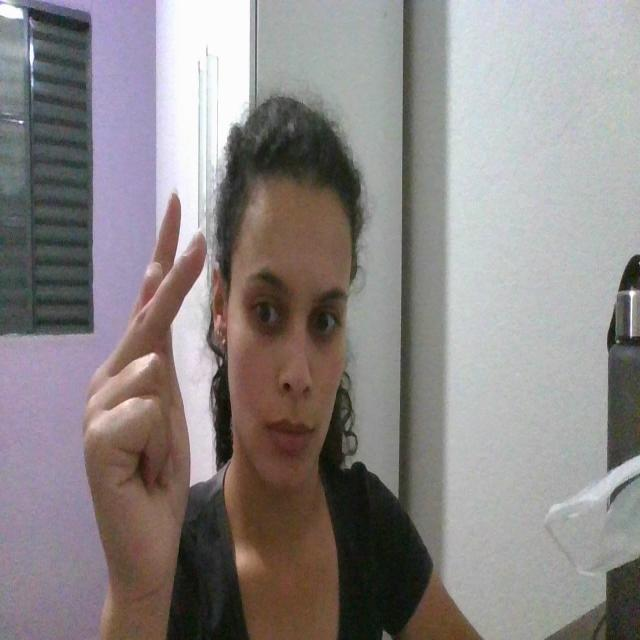K: (79, 183, 211, 596)
